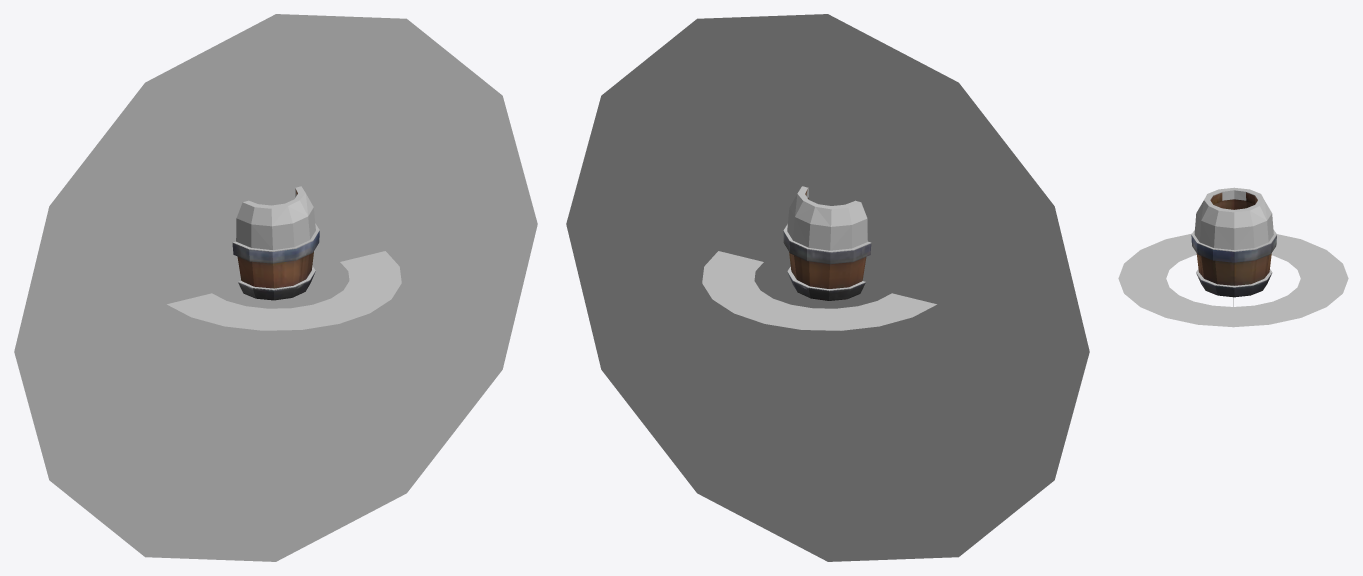
Rendered from pref_fx_returnhome_born_081301_lv3.fbx.
3 views of the same model, side by side, from view 1: azimuth 30°, elevation 25°; view 2: azimuth 150°, elevation 25°; view 3: azimuth 270°, elevation 25° (orthographic). The views are drawn at different scales.
Parts seen in each view (by area): view 1: Cone001, huan, obj, sce_map_02Barrel01; view 2: Cone001, huan, obj, sce_map_02Barrel01; view 3: huan, obj, sce_map_02Barrel01.
Part boxes in pixels (box(x1,y1,x2,y2)): Cone001: box(14, 14, 537, 561); huan: box(167, 251, 401, 330); obj: box(232, 186, 319, 290); sce_map_02Barrel01: box(232, 189, 319, 300); Cone001: box(566, 14, 1089, 561); huan: box(702, 251, 936, 330); obj: box(783, 186, 871, 290); sce_map_02Barrel01: box(783, 189, 871, 300); huan: box(1118, 233, 1348, 327); obj: box(1191, 187, 1276, 287); sce_map_02Barrel01: box(1191, 192, 1276, 297).
Bounding box in the file's own units: 8.73 × 8.73 × 3.65.
